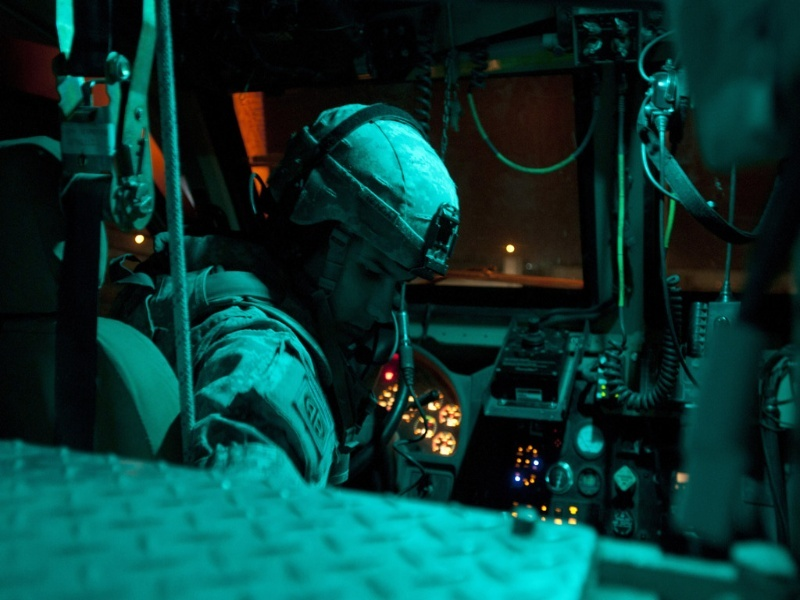baret: (302, 96, 464, 281)
